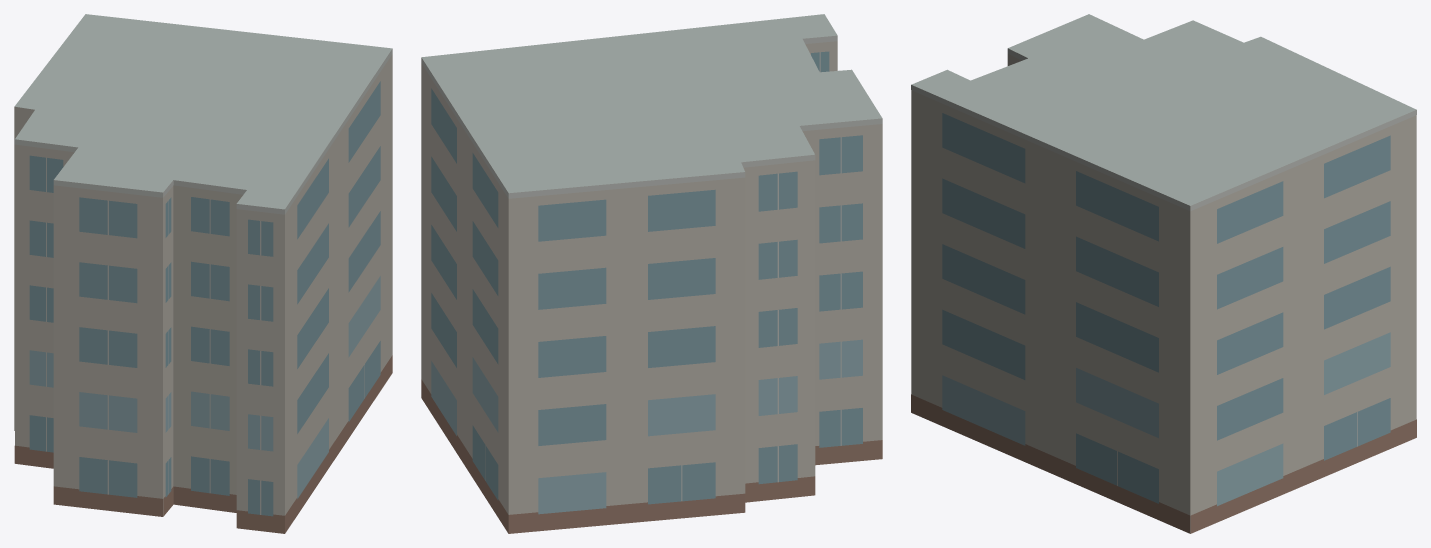
The model's file is survey-upis-32860596.glb.
3 renders of one model, left to right at view 1: azimuth 30°, elevation 25°; view 2: azimuth 150°, elevation 25°; view 3: azimuth 270°, elevation 25°, orthographic. The views are drawn at different scales.
Visible parts, largest first — view 1: survey-upis-32860596.tmp; view 2: survey-upis-32860596.tmp; view 3: survey-upis-32860596.tmp.
Part boxes in pixels (bbox=[...]): survey-upis-32860596.tmp: bbox=[14, 14, 392, 533]; survey-upis-32860596.tmp: bbox=[421, 14, 882, 533]; survey-upis-32860596.tmp: bbox=[911, 14, 1416, 533].
Size of the model in its own units: 18.71 by 14.9 by 20.83.
